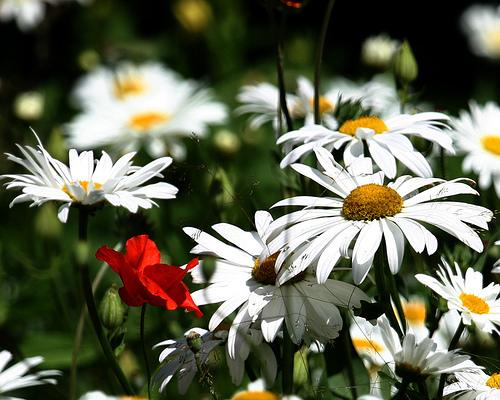daisy: (182, 206, 383, 351), (252, 173, 496, 289), (1, 123, 180, 227), (268, 108, 457, 181), (70, 82, 231, 163), (234, 79, 421, 133), (371, 312, 476, 383), (413, 260, 500, 336), (71, 63, 192, 117), (438, 99, 500, 198), (439, 359, 500, 400), (214, 389, 306, 400)
